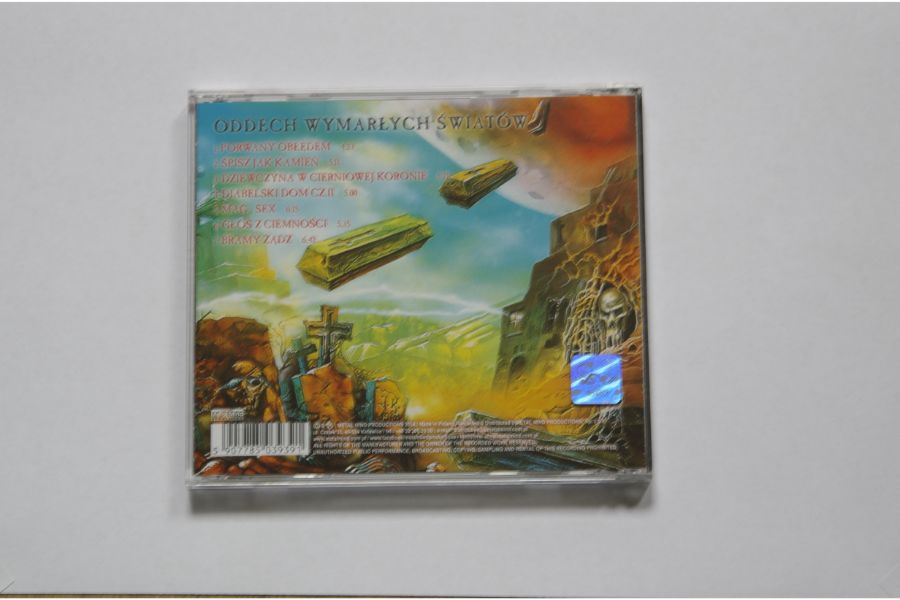album: (182, 90, 654, 484)
